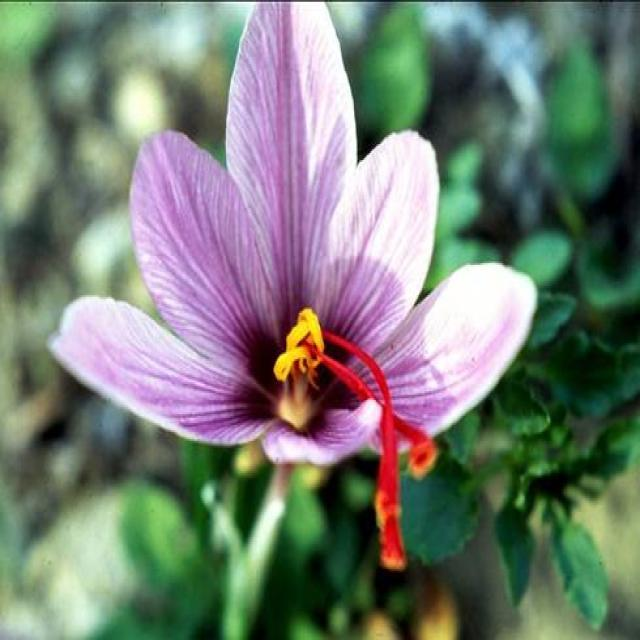Flower: (43, 0, 538, 480)
stigma: (292, 308, 438, 582)
